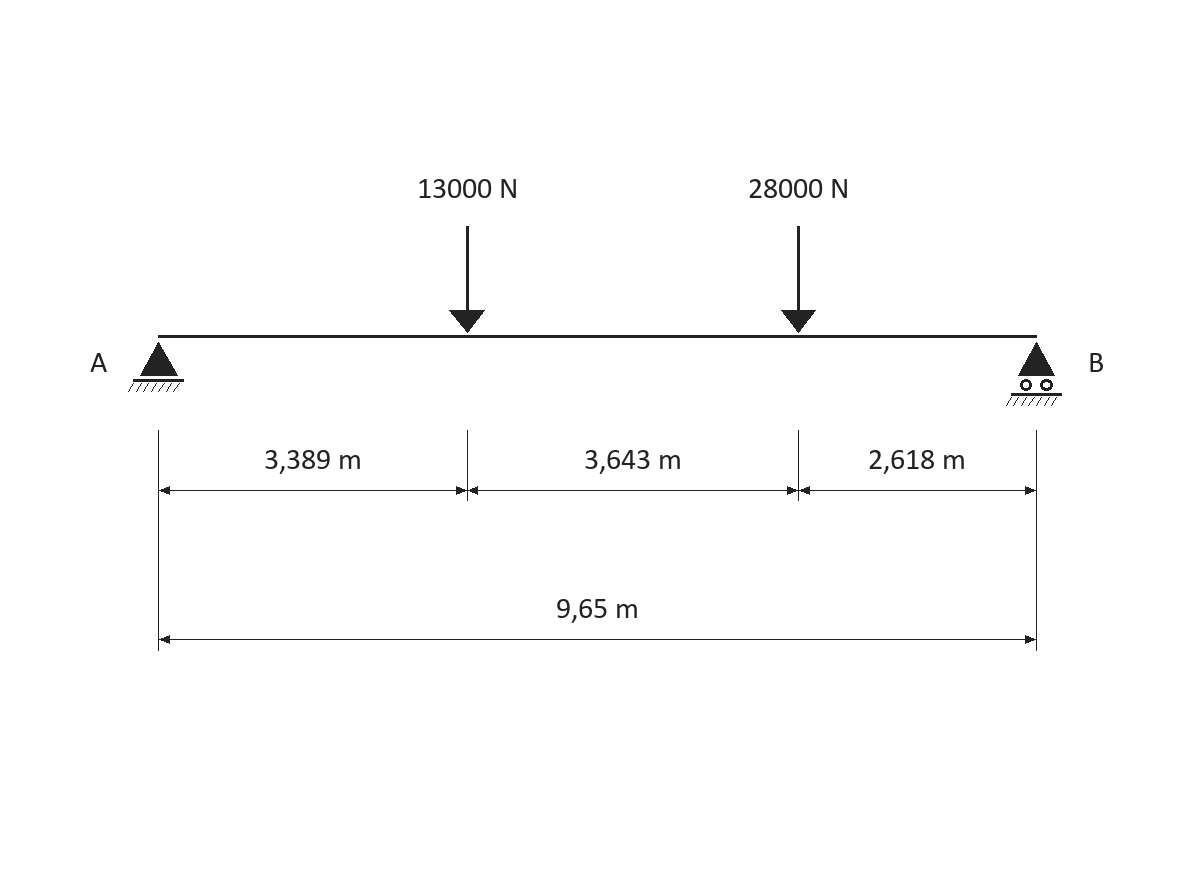pin_support: (128, 342, 184, 392)
point_load: (449, 226, 485, 333), (781, 226, 816, 333)
roller_support: (1006, 342, 1062, 406)
